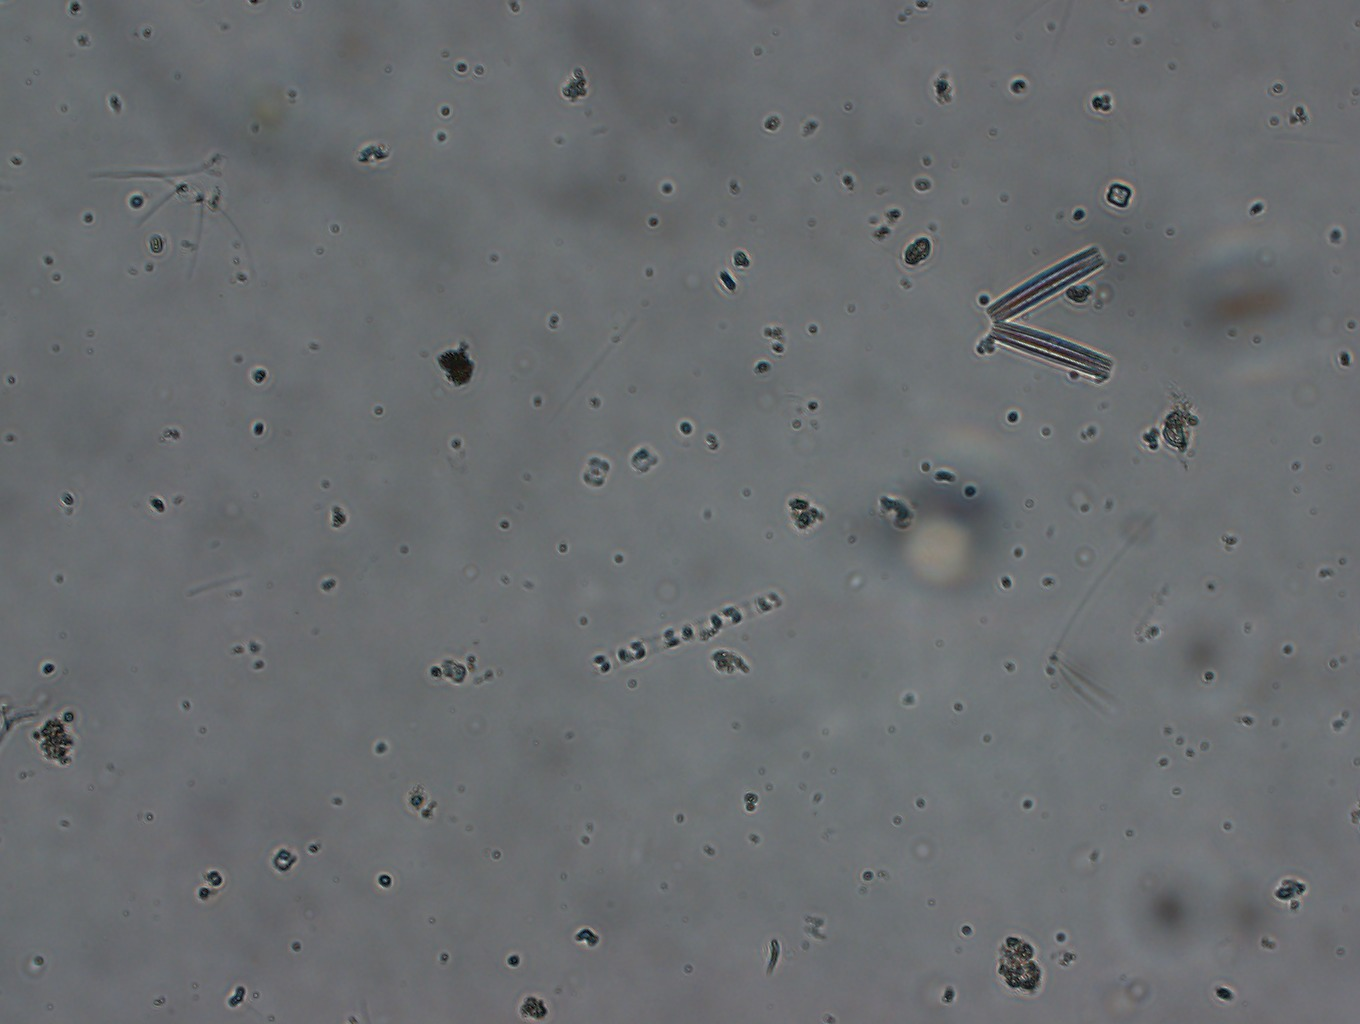skeletonema: (574, 579, 832, 687)
thalassionema nitzschioides: (977, 234, 1127, 386)
